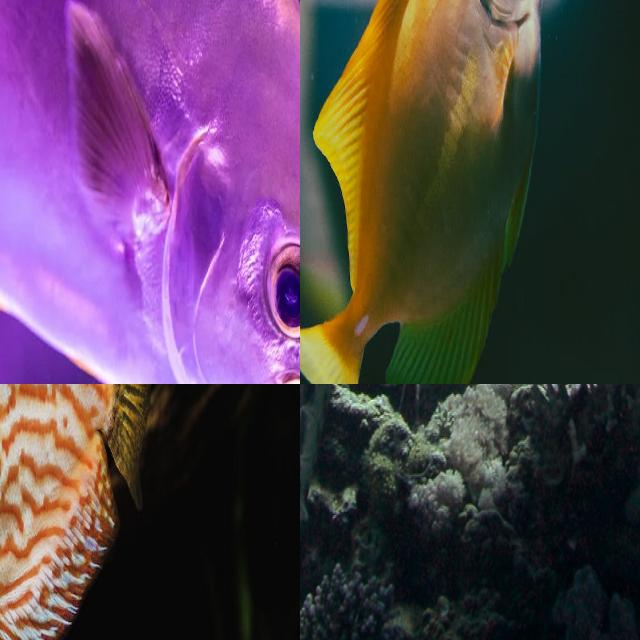fish: (300, 0, 640, 384), (0, 0, 300, 384), (0, 384, 186, 640)
